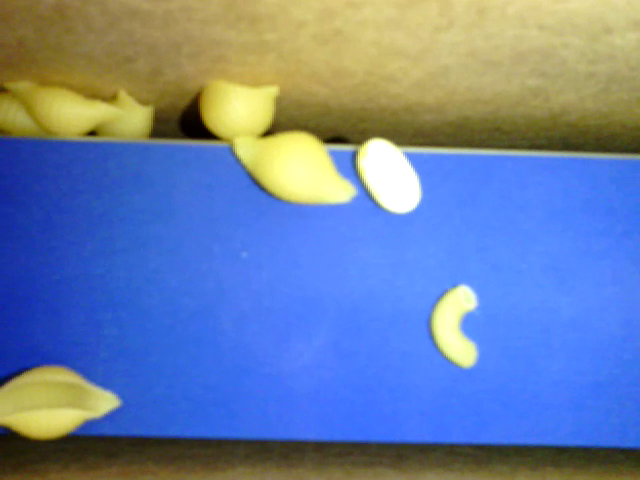elbow: (427, 283, 480, 366)
shell: (229, 128, 355, 205), (1, 361, 122, 437), (3, 75, 122, 137), (198, 72, 279, 139), (91, 83, 156, 139), (1, 91, 58, 141)
